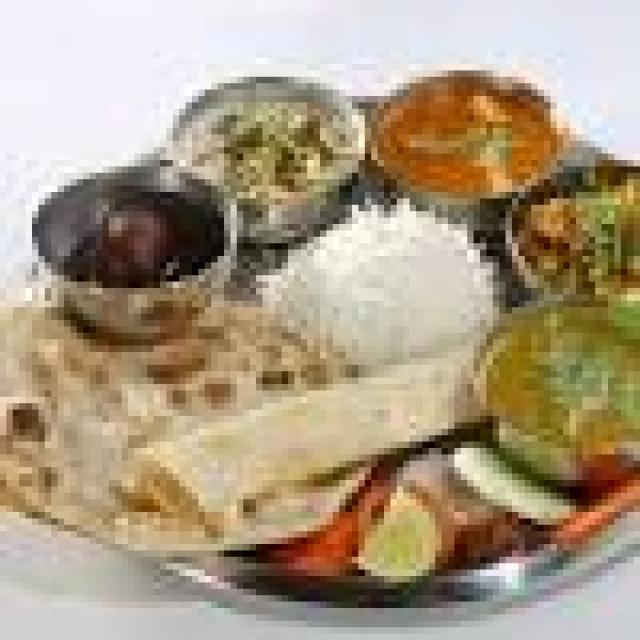dal: (182, 75, 366, 234)
sweet: (75, 189, 234, 302)
veg-fry: (353, 68, 576, 216)
